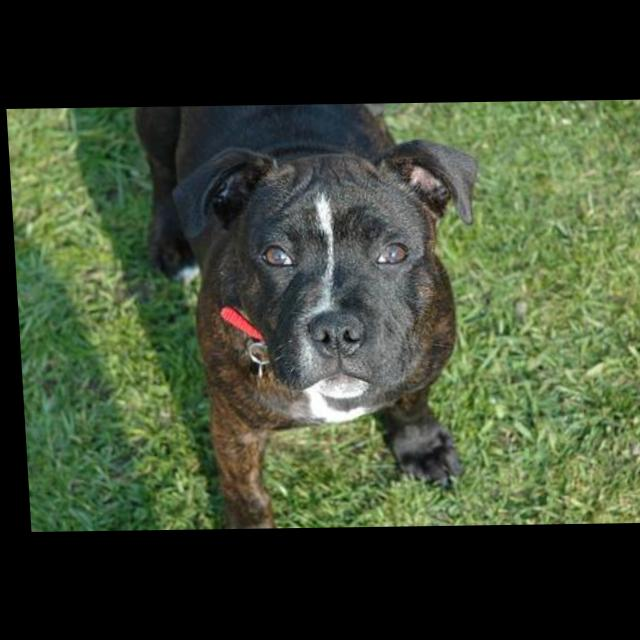amstaff: (132, 104, 494, 531)
